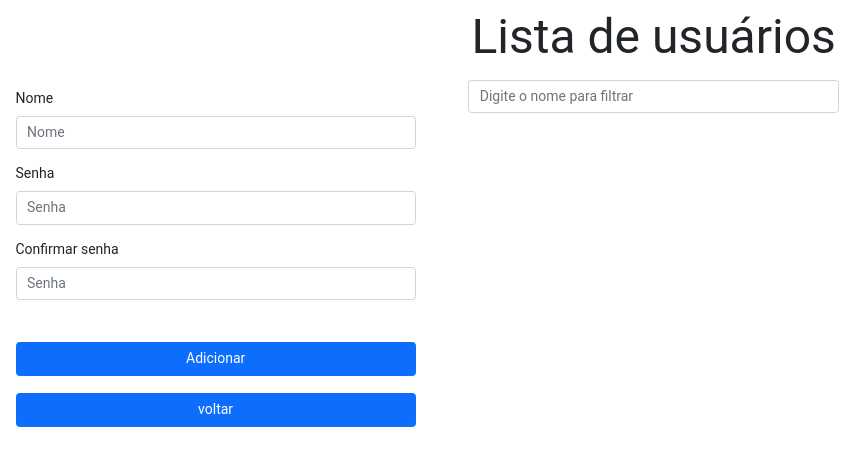
Test case: register user › error when log in with noexistent user
The width and height of the screenshot is (856, 466).
Click the button with id "to-login": (216, 410) [16, 393, 416, 427]
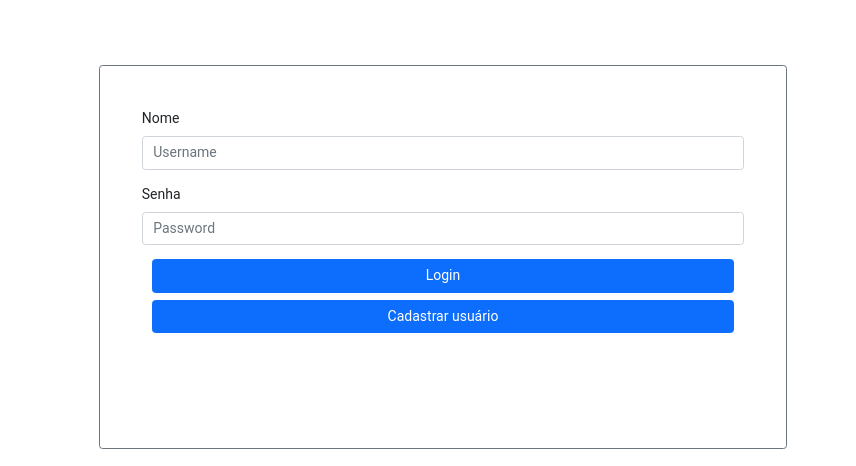
In the field with id "input-username": (444, 153) [142, 136, 745, 170], type "user"
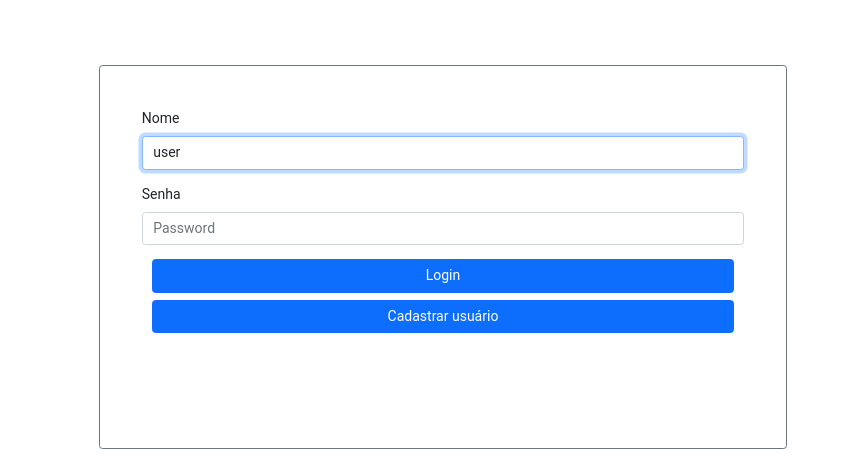
In the password field with id "input-password": (444, 229) [142, 212, 745, 246], type "password"
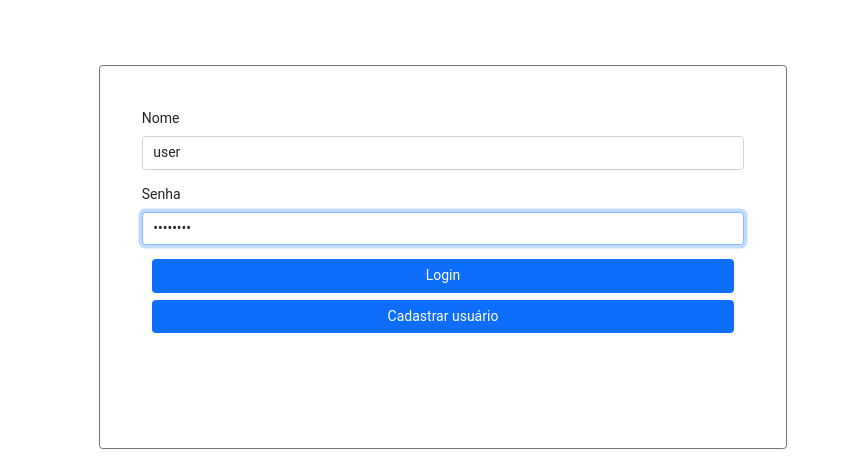
Click the button with id "login": (443, 276) [152, 259, 734, 293]
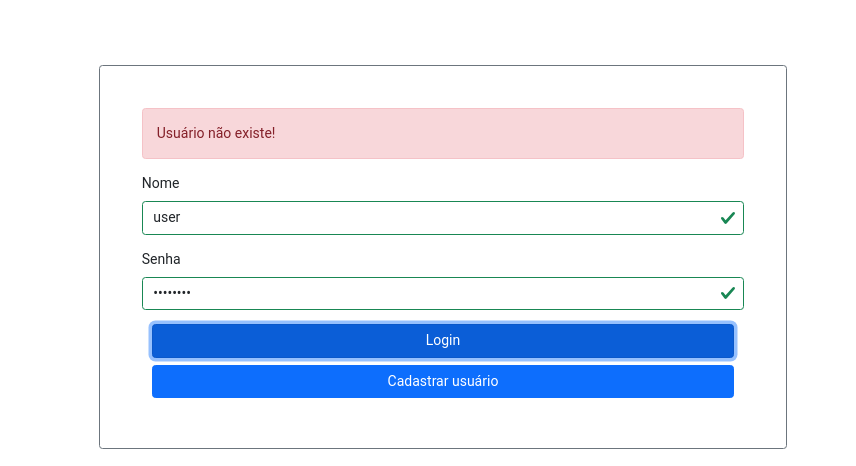
Check: the message with class "alert" reads "Usuário não existe!", box [142, 108, 745, 159]
